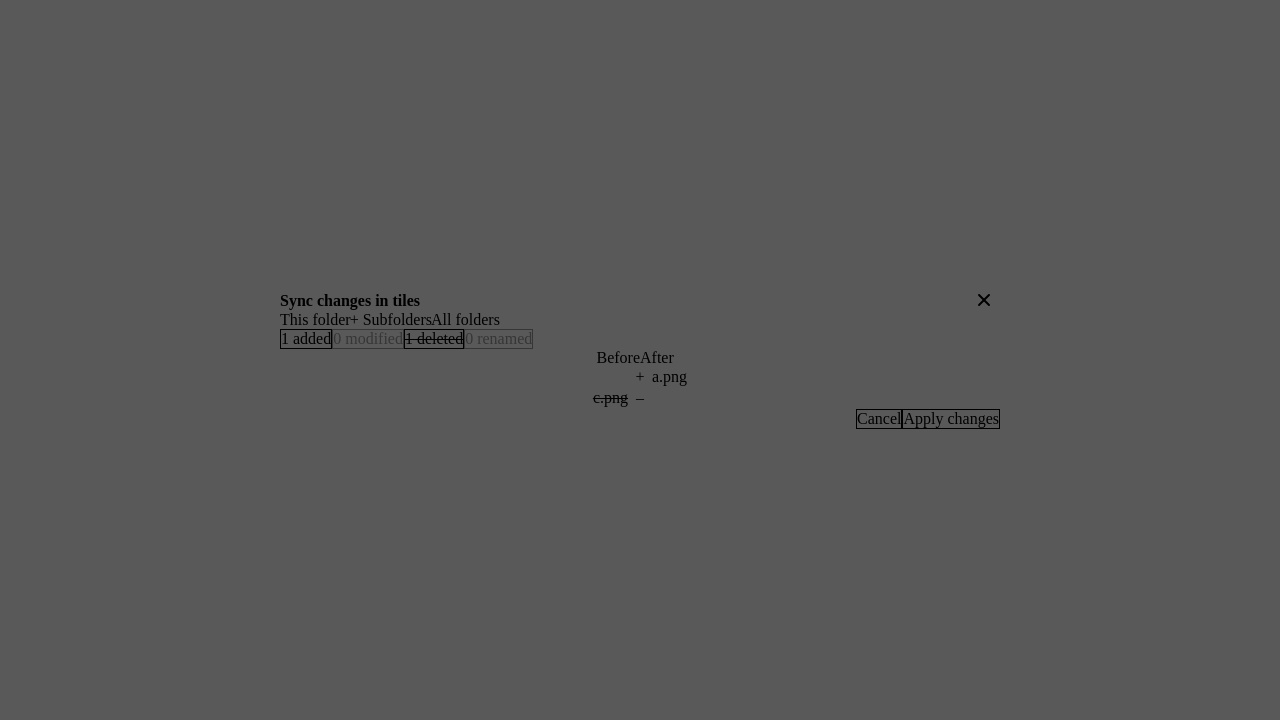
SyncModal › hides a kind's rows from the table when its filter chip is clicked
Expected: the text "a.png" is shown, [652,368,687,385]
Click the button "1 added": point(306, 339) [280,329,332,349]
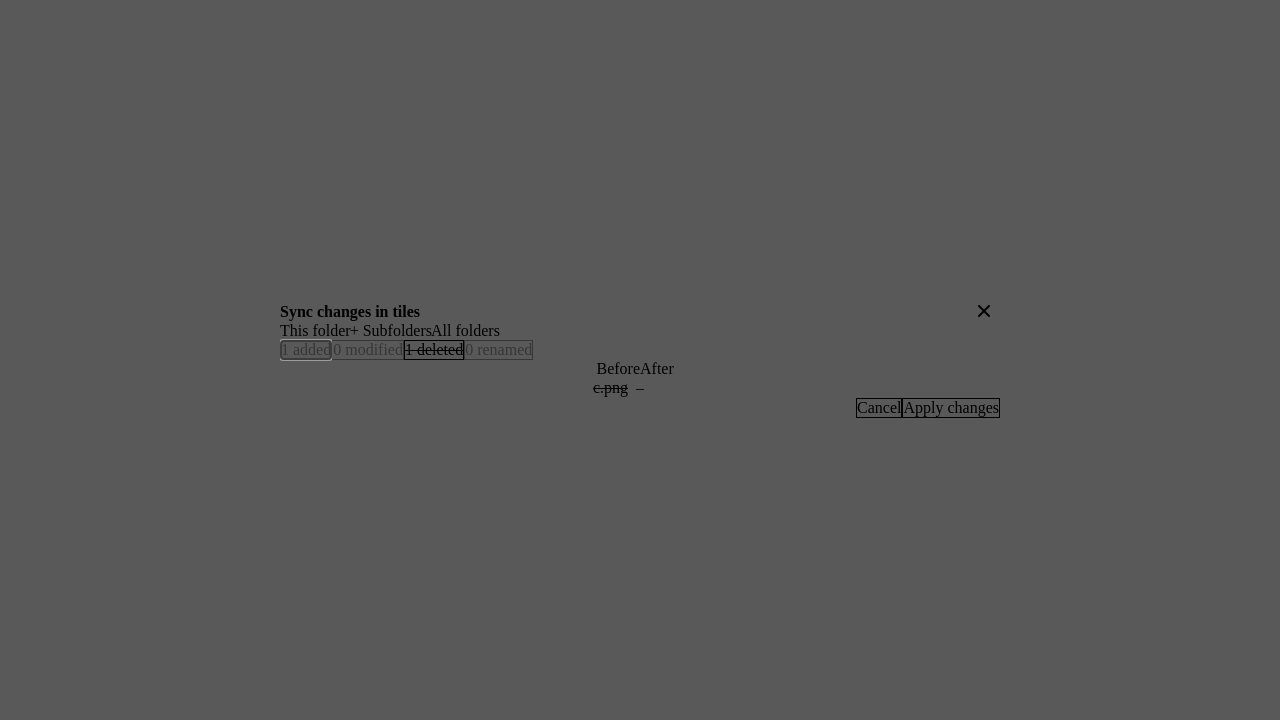
Expected: the text "c.png" is shown, [593,379,628,396]
Now the text "a.png" is gone
Click the button "1 added": point(306, 350) [280,340,332,360]
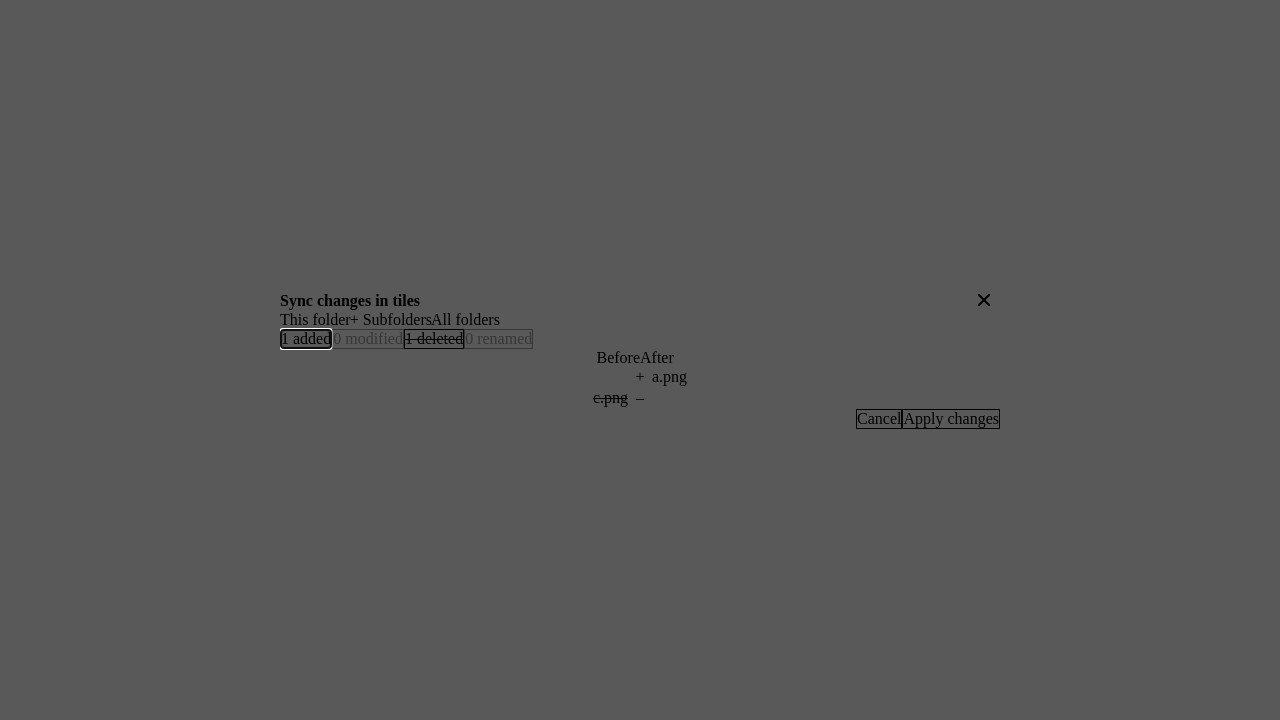
Now the text "a.png" is shown, box [652,368,687,385]
